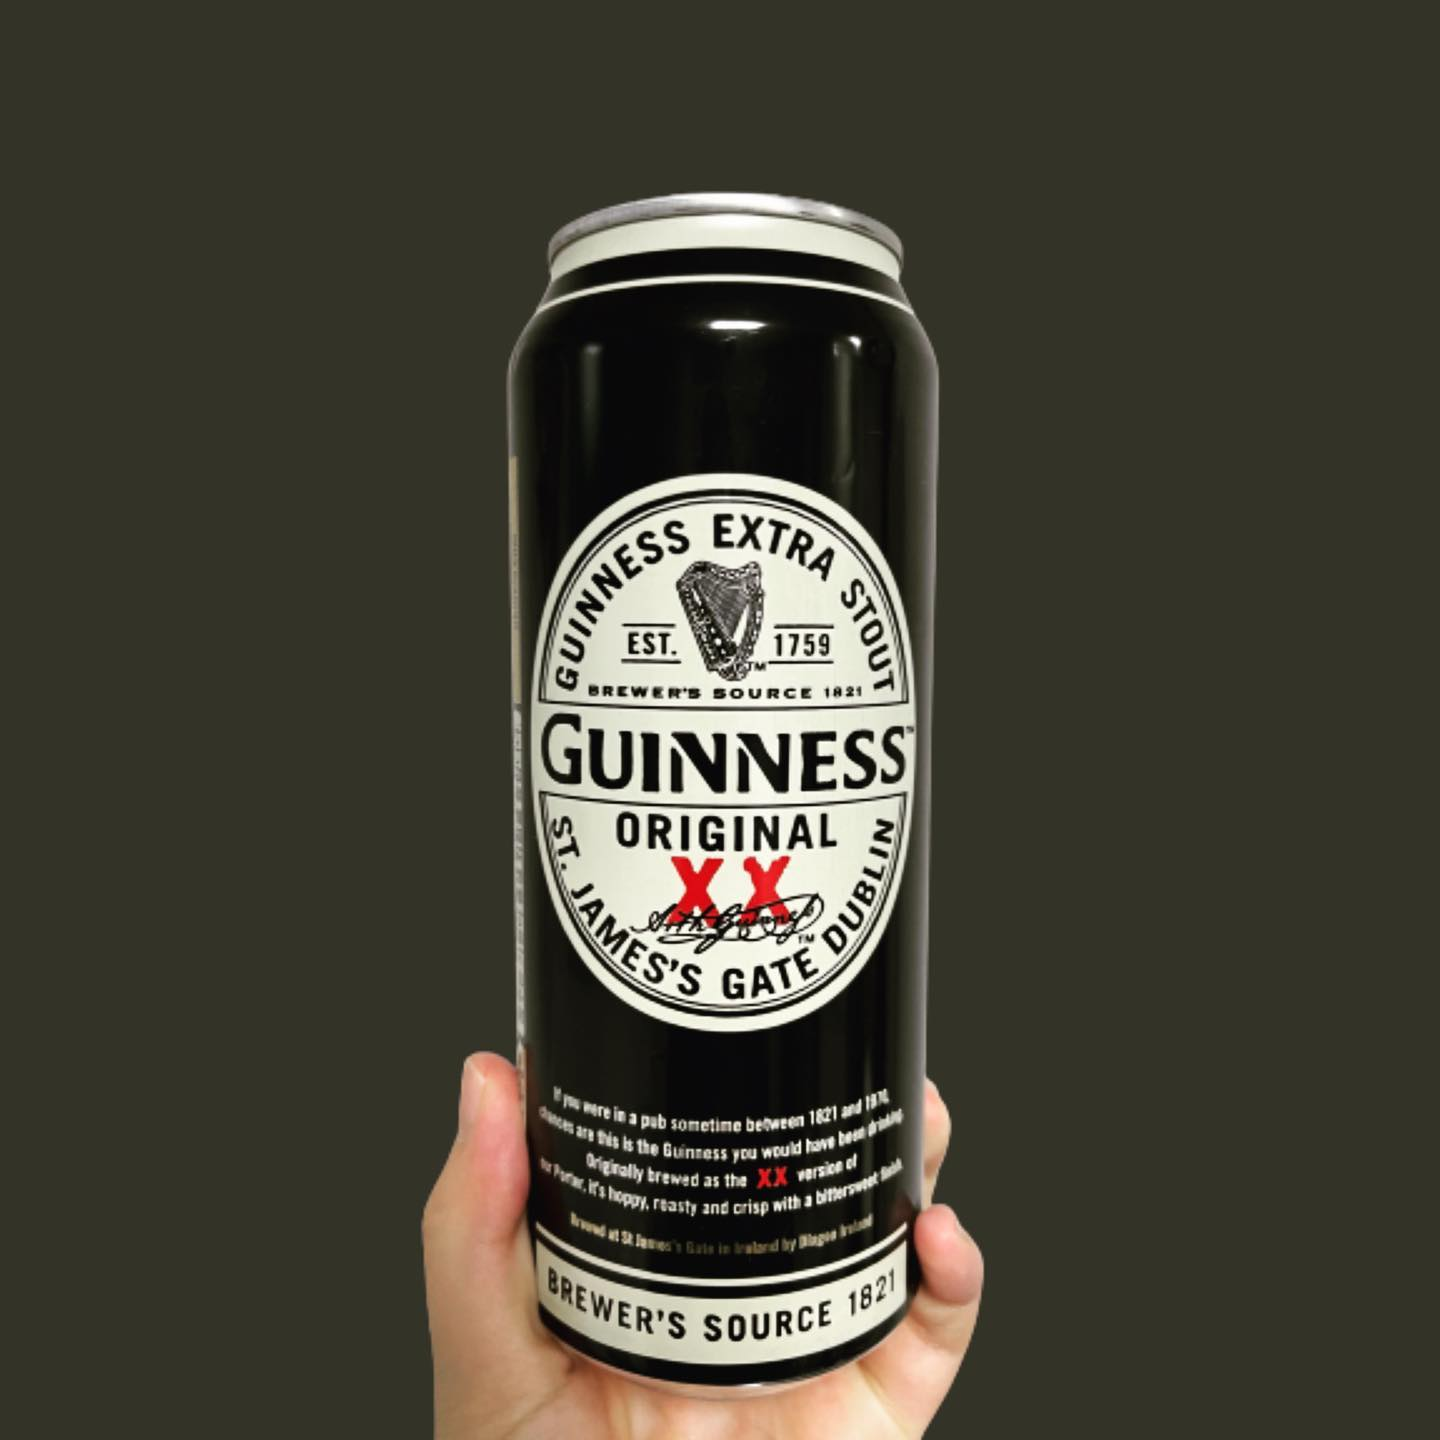alcohol: (495, 179, 952, 1410)
